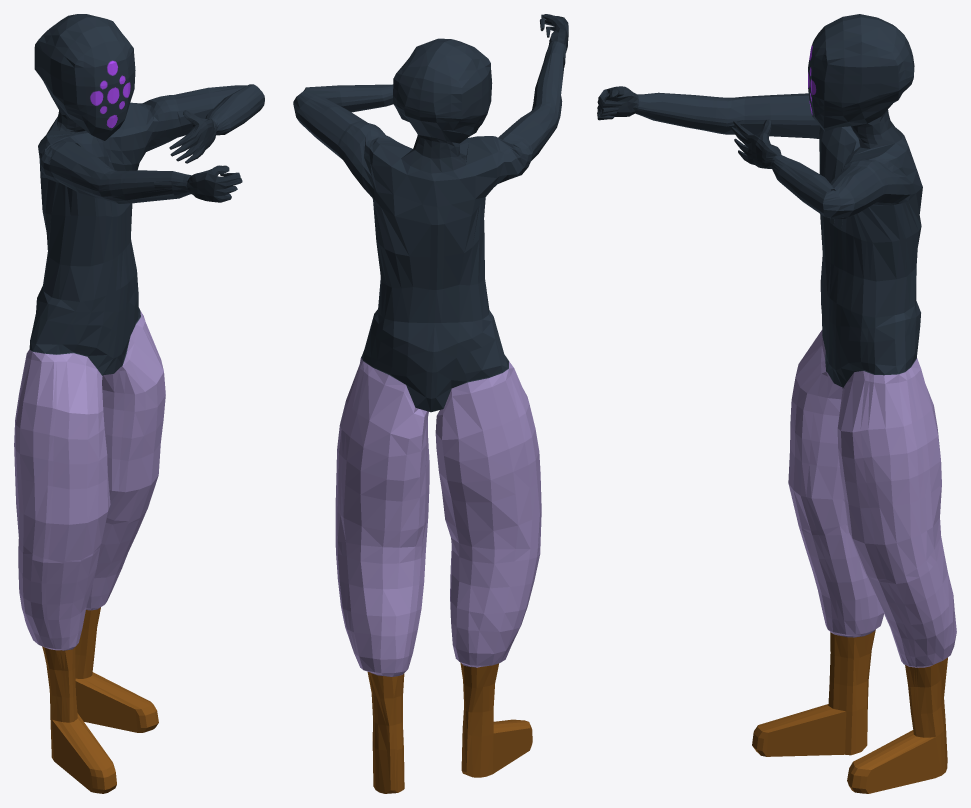
Rendered from Oracle_Attack_000031.obj.
The picture shows the model from 3 angles, left to right: view 1: azimuth 30°, elevation 25°; view 2: azimuth 150°, elevation 25°; view 3: azimuth 270°, elevation 25°; orthographic projection. The views are drawn at different scales.
Visible parts, largest first — view 1: Cube; view 2: Cube; view 3: Cube.
Part boxes in pixels (x1=…): Cube: x1=14, y1=14, x2=264, y2=793; Cube: x1=293, y1=14, x2=568, y2=793; Cube: x1=597, y1=14, x2=956, y2=793.
Bounding box in the file's own units: 1.36 × 3.94 × 1.71.
